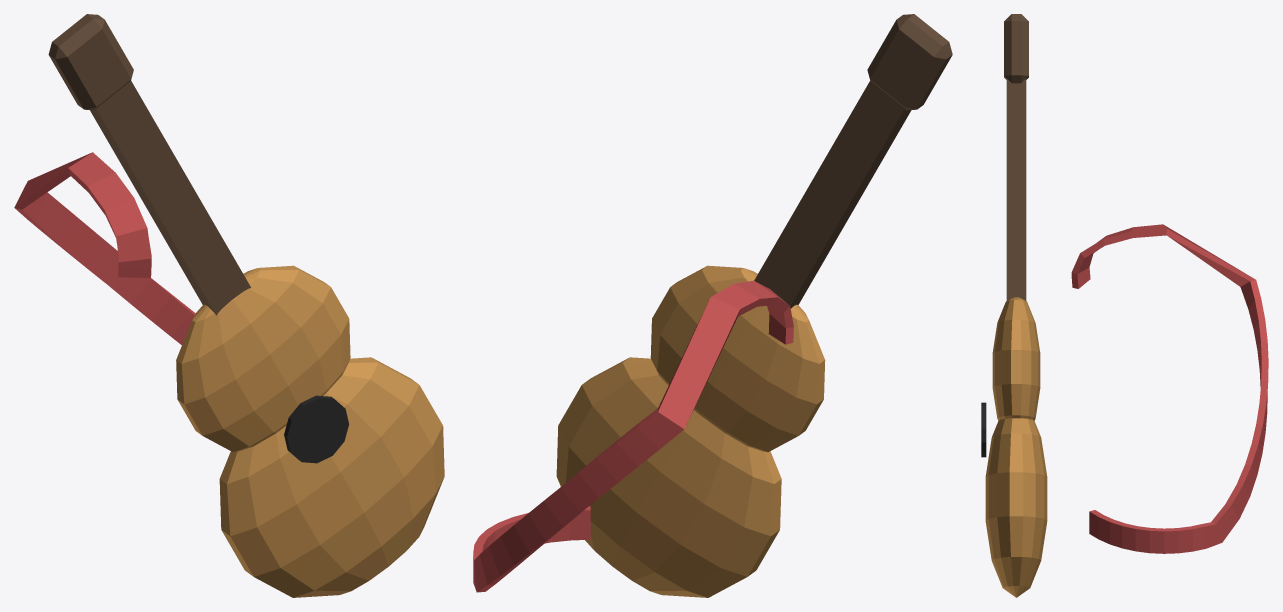
Rendered from back_guitar.glb.
3 views of the same model, side by side, from view 1: azimuth 30°, elevation 25°; view 2: azimuth 150°, elevation 25°; view 3: azimuth 270°, elevation 25° (orthographic). The views are drawn at different scales.
Parts seen in each view (by area): view 1: Torso; view 2: Torso; view 3: Torso.
Boxes of the visible parts, x1,y1,x2,y2 form: Torso: [14, 14, 444, 597]; Torso: [473, 14, 952, 597]; Torso: [981, 14, 1268, 597].
Bounding box in the file's own units: 0.6903 × 1.08 × 0.5806.
